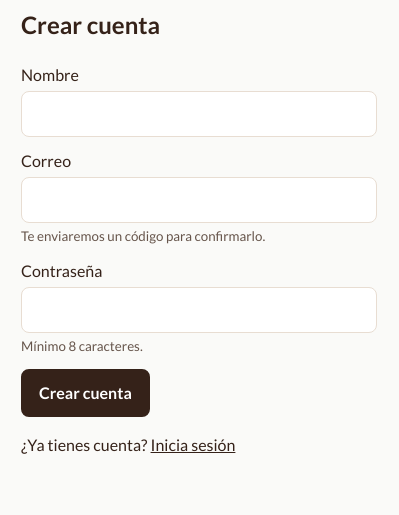
Test case: RegistroPage › rechaza un correo inválido antes de enviar
Type "Ana López" into the field labelled "Nombre". click: (199, 114)
box: [21,91,377,137]
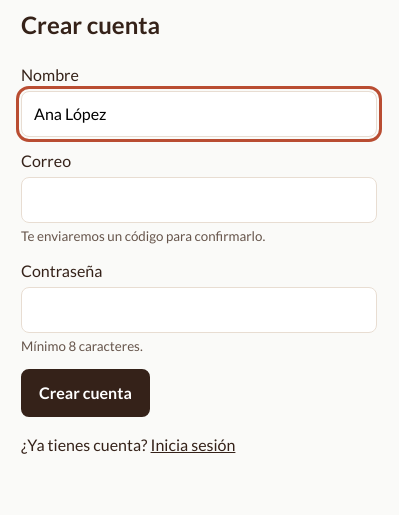
Type "correo-invalido" into the field labelled "Correo". click: (199, 200)
box: [21,177,377,223]
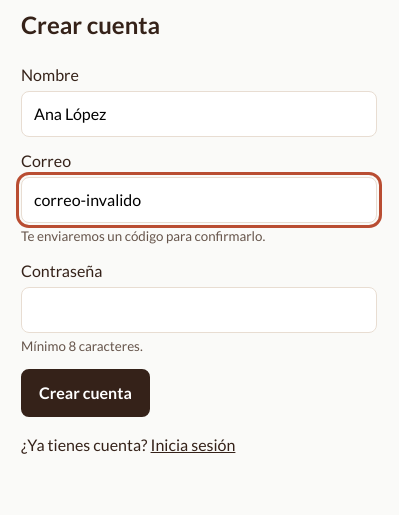
Type "clave12345" into the password field labelled "Contraseña". click: (199, 310)
box: [21,287,377,333]
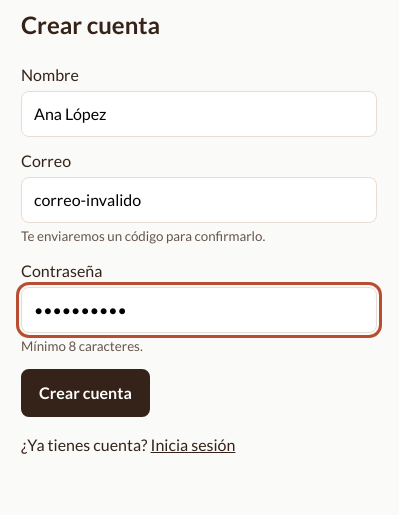
Click the button "Crear cuenta". click: click(85, 393)
box: [21,369,150,417]
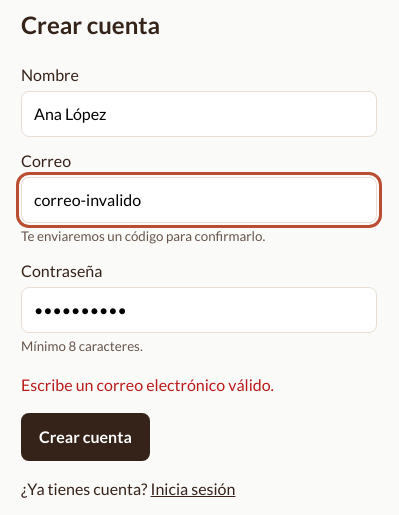
Check: the message reads "Escribe un correo electrónico válido.", box [21,375,274,394]
